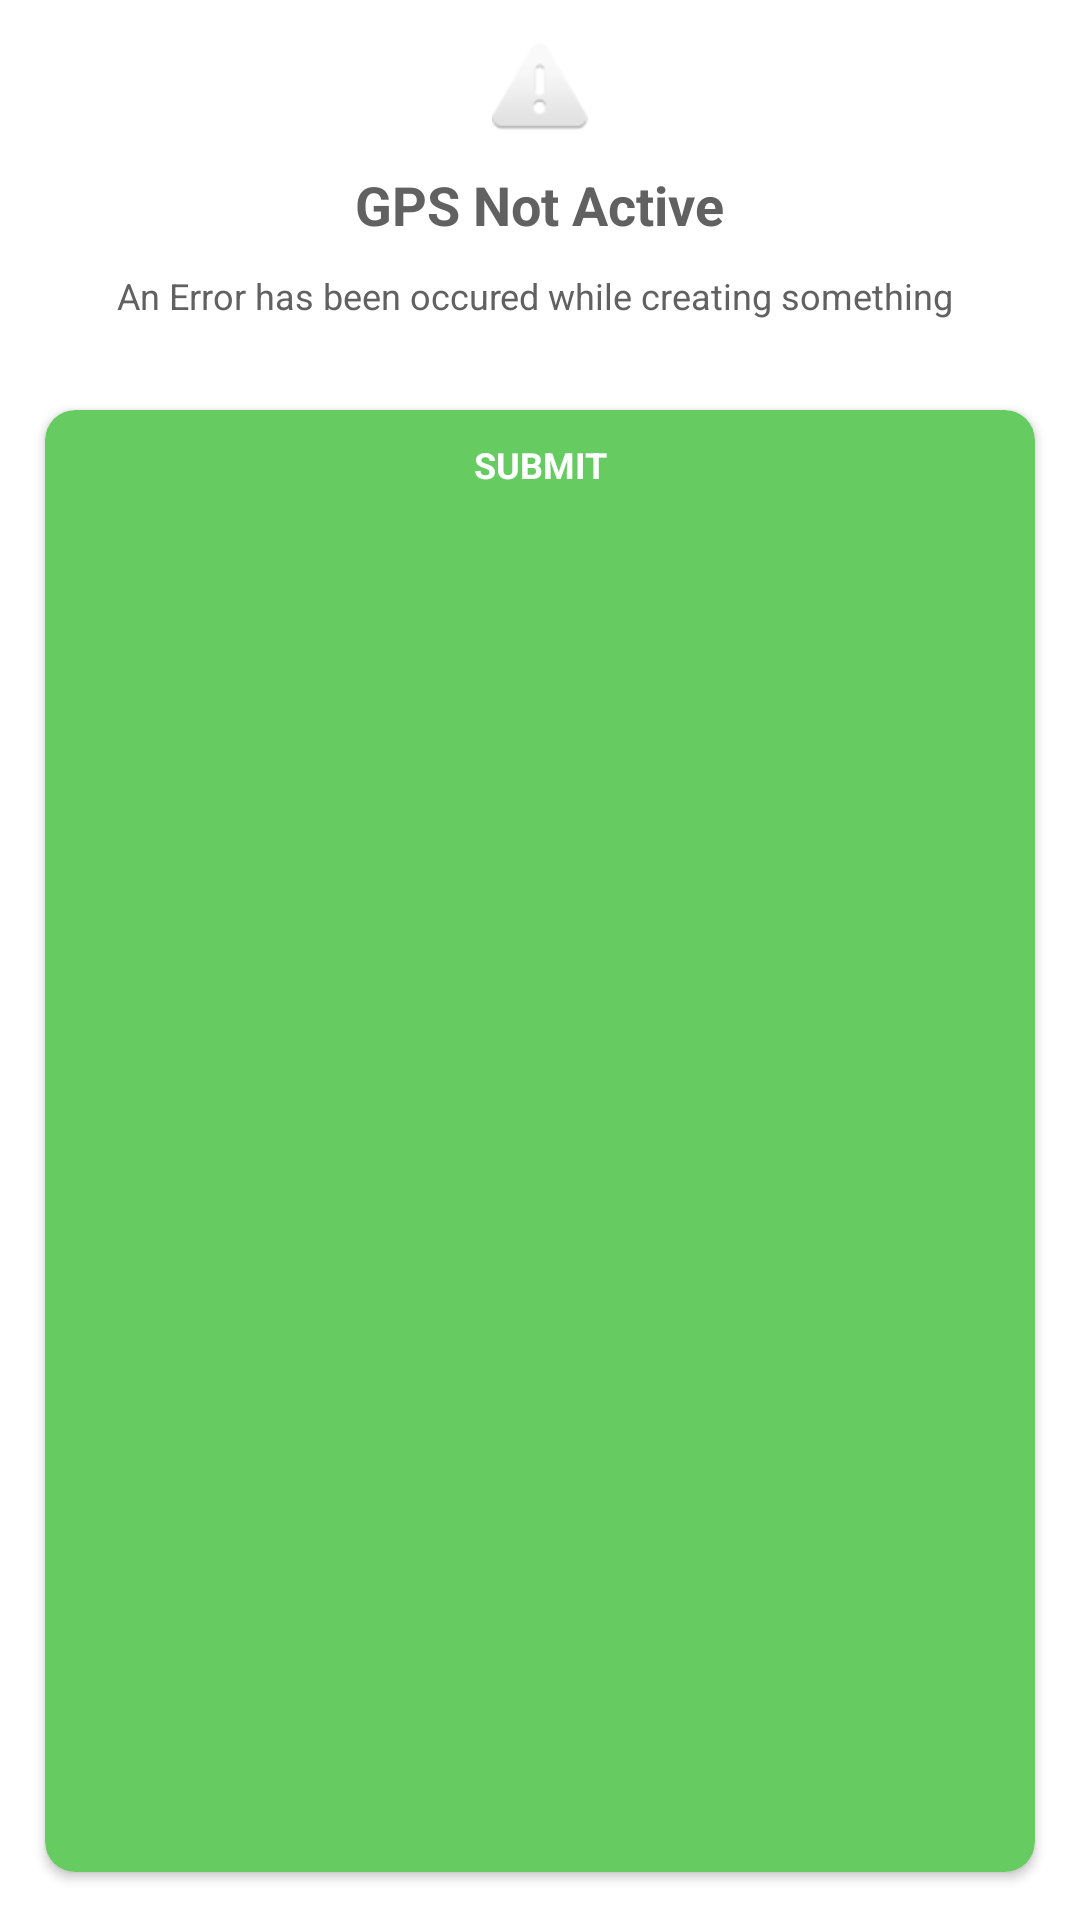

Screen size 1080×1920. Icon name, then its box in pixels as [x1=x1, y1=y1, x2=x2, y2=y2]:
alert: [x1=492, y1=64, x2=588, y2=129]
